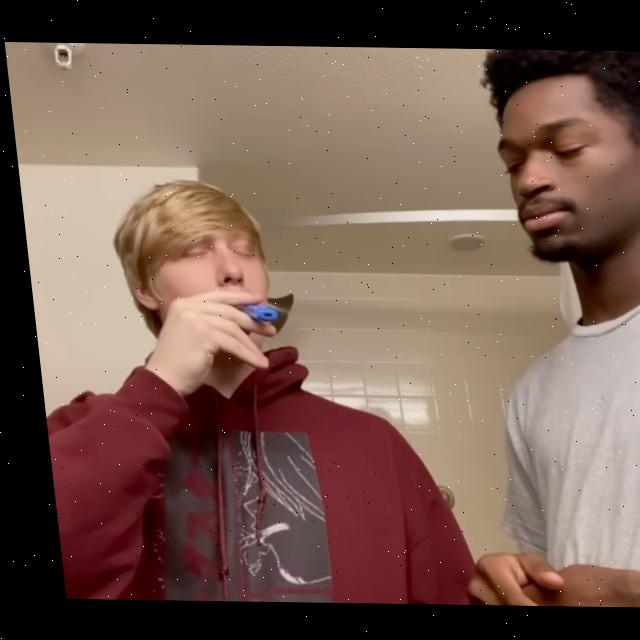vape: (234, 302, 272, 321)
